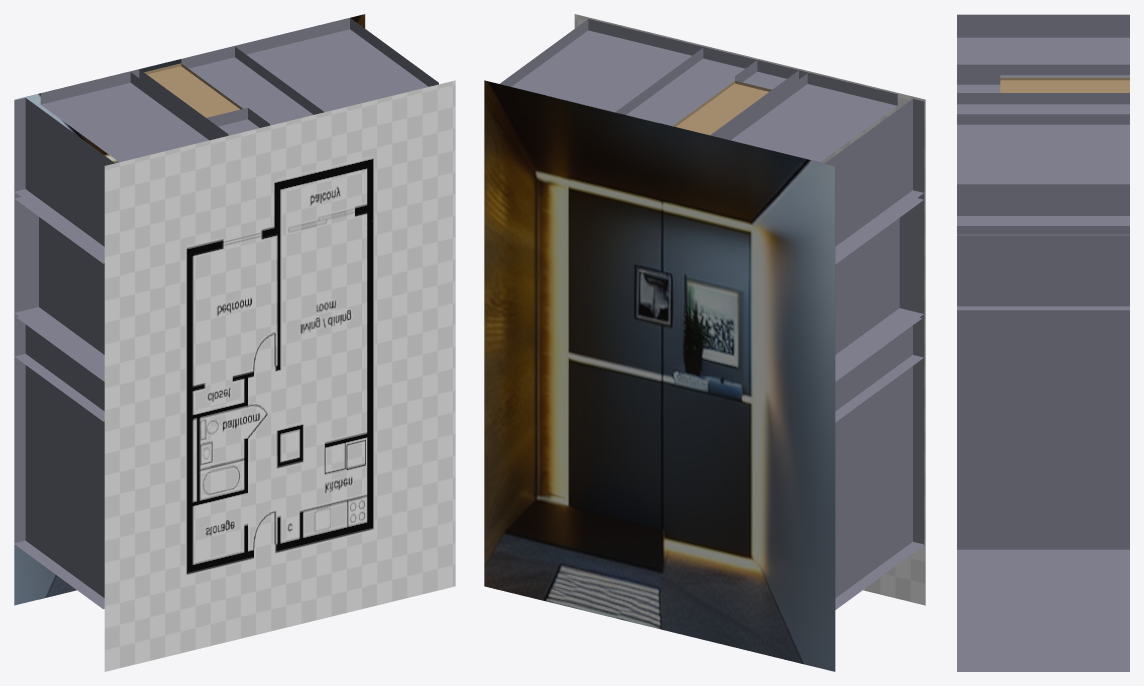
The model's file is floorplan1.gltf.
The picture shows the model from 3 angles, left to right: view 1: azimuth 30°, elevation 25°; view 2: azimuth 150°, elevation 25°; view 3: azimuth 270°, elevation 25°; orthographic projection. The views are drawn at different scales.
Parts seen in each view (by area): view 1: FloorPlan, floorplan1, InteriorFloor; view 2: InteriorFloor, floorplan1, FloorPlan; view 3: floorplan1.
Boxes of the visible parts, left/top/right/bottom form: FloorPlan: left=104, top=80, right=455, bottom=671; floorplan1: left=14, top=18, right=438, bottom=609; InteriorFloor: left=14, top=14, right=365, bottom=605; InteriorFloor: left=484, top=80, right=835, bottom=671; floorplan1: left=500, top=19, right=924, bottom=609; FloorPlan: left=574, top=14, right=925, bottom=605; floorplan1: left=957, top=14, right=1129, bottom=671.
Size of the model in its own units: 6.38 by 8.79 by 2.85.
3 materials, 2 textured.
